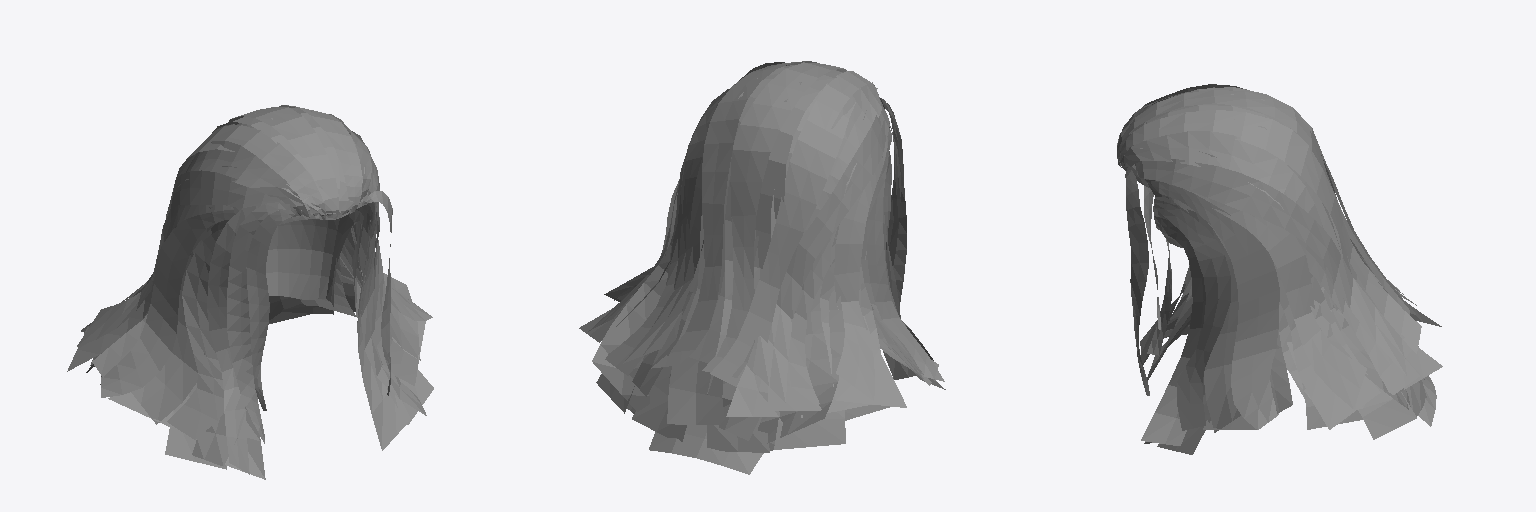
Rendered from c_04_mg__long.obj.
3 views of the same model, side by side, from view 1: azimuth 30°, elevation 25°; view 2: azimuth 150°, elevation 25°; view 3: azimuth 270°, elevation 25° (orthographic).
Visible parts, largest first — view 1: grp003; view 2: grp003; view 3: grp003.
Boxes of the visible parts, box(x1,y1,x2,y2) form: grp003: box(67, 105, 433, 479); grp003: box(579, 61, 945, 474); grp003: box(1117, 84, 1442, 454).
Bounding box in the file's own units: 0.3694 × 0.3405 × 0.3151.